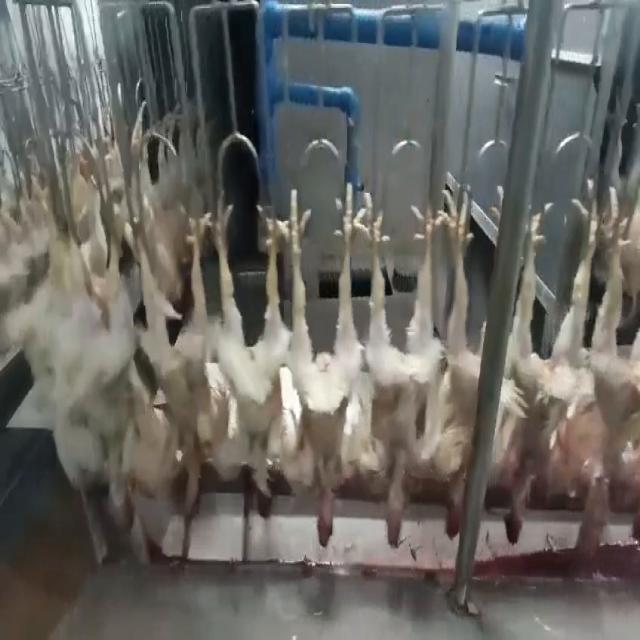chicken: (498, 179, 597, 543), (115, 195, 211, 533), (287, 174, 360, 549), (363, 186, 438, 547), (210, 188, 287, 526), (436, 177, 502, 546), (599, 191, 639, 516)
